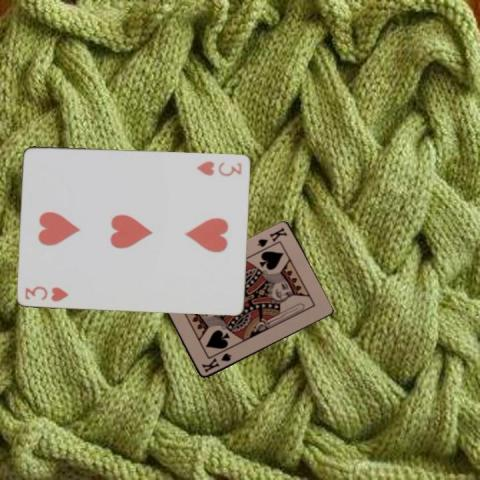3h: (22, 283, 70, 303), (194, 158, 243, 177)
Ks: (198, 350, 232, 375), (254, 224, 289, 248)
